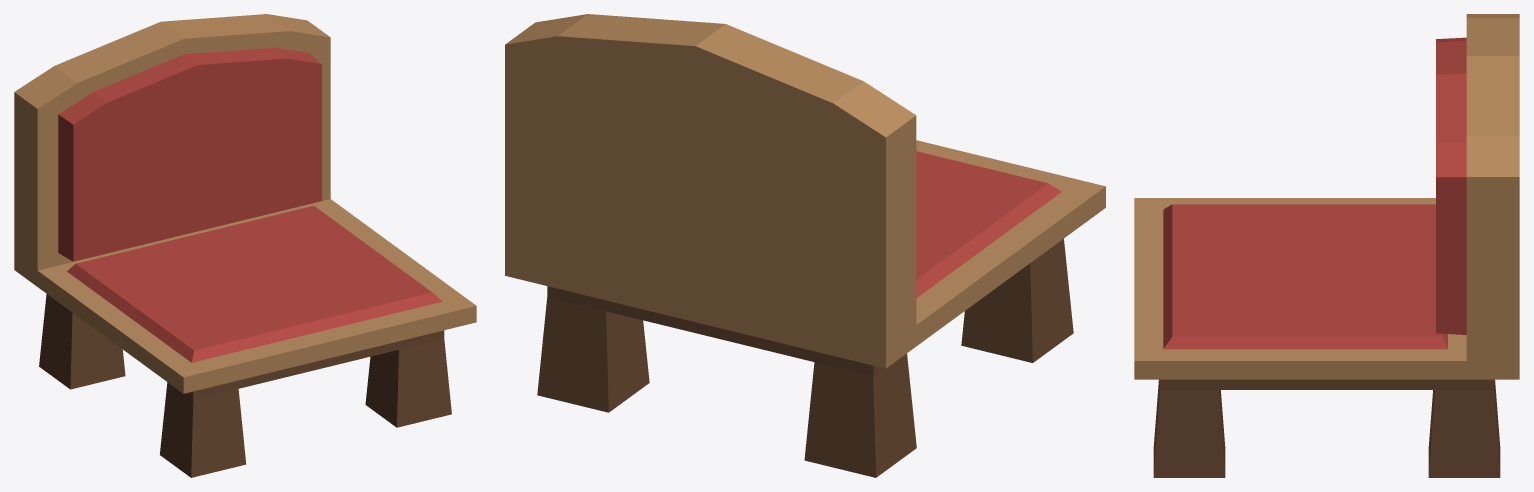
The model's file is qt-chair-cushioned.glb.
3 views of the same model, side by side, from view 1: azimuth 30°, elevation 25°; view 2: azimuth 150°, elevation 25°; view 3: azimuth 270°, elevation 25° (orthographic). The views are drawn at different scales.
Visible parts, largest first — view 1: Cushioned_Chair_Cube.009; view 2: Cushioned_Chair_Cube.009; view 3: Cushioned_Chair_Cube.009.
Boxes of the visible parts, left/top/right/bottom form: Cushioned_Chair_Cube.009: left=14, top=14, right=476, bottom=477; Cushioned_Chair_Cube.009: left=505, top=14, right=1105, bottom=477; Cushioned_Chair_Cube.009: left=1134, top=14, right=1519, bottom=477.
Bounding box in the file's own units: 1 × 1 × 1.
